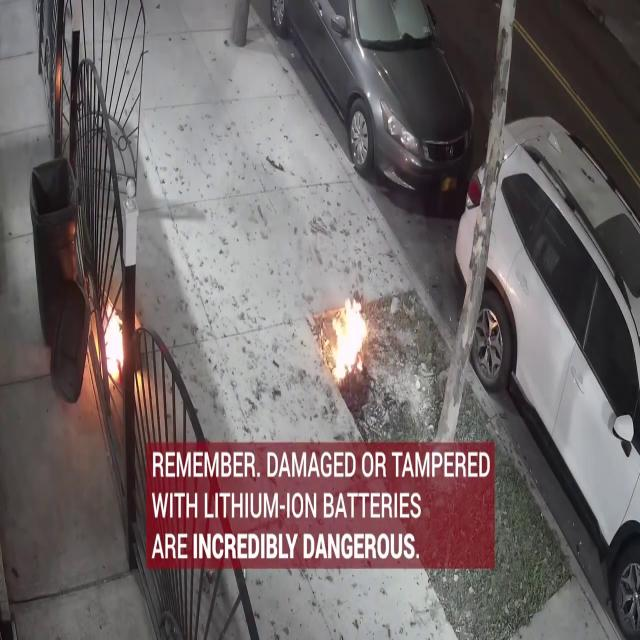Fire: (322, 292, 372, 385), (103, 302, 127, 392)
